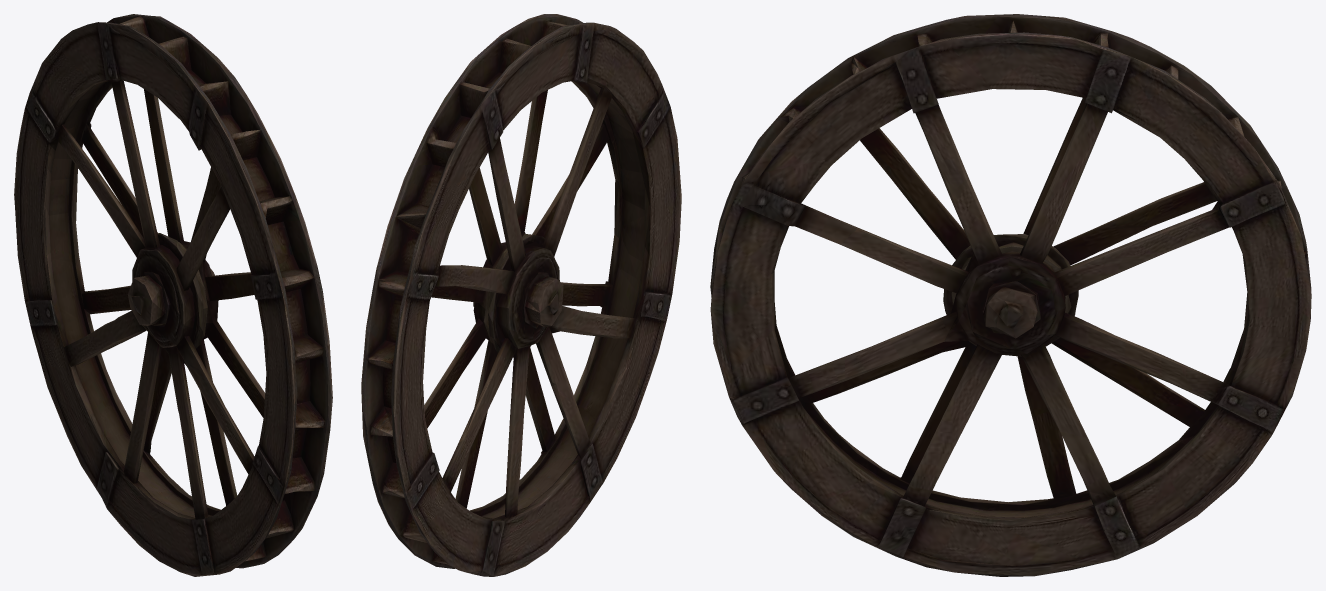
File: prp_waterwheel_a_LOD0.glb
The picture shows the model from 3 angles, left to right: view 1: azimuth 30°, elevation 25°; view 2: azimuth 150°, elevation 25°; view 3: azimuth 270°, elevation 25°; orthographic projection. The views are drawn at different scales.
Parts seen in each view (by area): view 1: tripo_mesh_e7dc5a1c-1b35-455a-bab6-4c4c291aac5e; view 2: tripo_mesh_e7dc5a1c-1b35-455a-bab6-4c4c291aac5e; view 3: tripo_mesh_e7dc5a1c-1b35-455a-bab6-4c4c291aac5e.
Boxes of the visible parts, bbox=[...] form: tripo_mesh_e7dc5a1c-1b35-455a-bab6-4c4c291aac5e: bbox=[14, 14, 332, 576]; tripo_mesh_e7dc5a1c-1b35-455a-bab6-4c4c291aac5e: bbox=[361, 14, 681, 576]; tripo_mesh_e7dc5a1c-1b35-455a-bab6-4c4c291aac5e: bbox=[710, 14, 1311, 576].
Size of the model in its own units: 0.6 by 4 by 4.
1 material, 1 textured.
